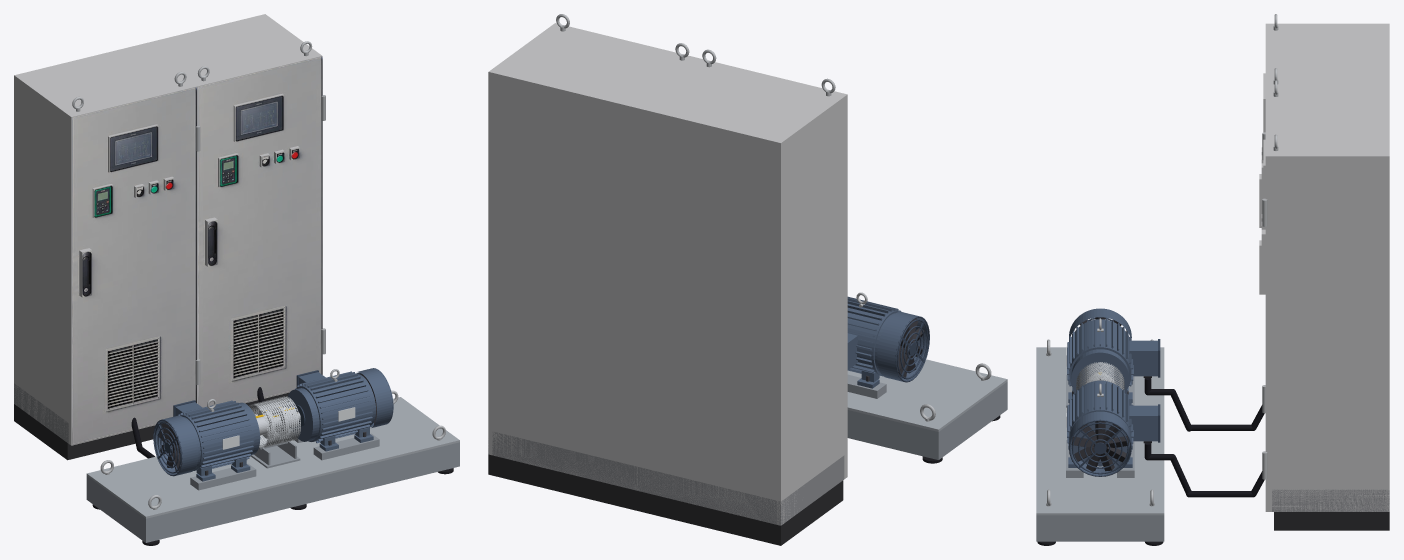
File: testbench_01.glb
3 views of the same model, side by side, from view 1: azimuth 30°, elevation 25°; view 2: azimuth 150°, elevation 25°; view 3: azimuth 270°, elevation 25° (orthographic). The views are drawn at different scales.
Visible parts, largest first — view 1: LeftDoor_Face, RightDoor_Face, L_side_L, Base_Deck, Base_Frame, L_roof, R_roof, L_plinth, Motor_B_Stator_Frame, Motor_A_Stator_Frame, Motor_B_Stator_Fins, Motor_A_Stator_Fins (+16 smaller); view 2: R_back, L_back, L_side_L, L_roof, R_roof, Base_Deck, L_floor, Base_Frame, L_plinth, R_floor, R_plinth, R_side_R (+7 smaller); view 3: R_side_R, Base_Deck, R_roof, L_roof, Base_Frame, R_floor, R_plinth, RightDoor_Panel, Motor_B_Stator_FanGrille, R_frame_R, Motor_A_Stator_Frame, Motor_B_Rotor_Fan (+15 smaller).
Boxes of the visible parts, <box> form: LeftDoor_Face: <box>72,87,196,444</box>; RightDoor_Face: <box>198,56,322,407</box>; L_side_L: <box>14,79,72,445</box>; Base_Deck: <box>86,397,459,518</box>; Base_Frame: <box>86,442,459,542</box>; L_roof: <box>14,44,196,118</box>; R_roof: <box>140,14,321,86</box>; L_plinth: <box>14,404,155,460</box>; Motor_B_Stator_Frame: <box>296,373,373,441</box>; Motor_A_Stator_Frame: <box>180,402,254,470</box>; Motor_B_Stator_Fins: <box>295,371,372,443</box>; Motor_A_Stator_Fins: <box>178,400,253,471</box>; R_back: <box>488,70,634,488</box>; L_back: <box>634,107,781,524</box>; L_side_L: <box>777,95,847,525</box>; L_roof: <box>634,61,845,146</box>; R_roof: <box>488,23,697,111</box>; Base_Deck: <box>847,359,1007,431</box>; L_floor: <box>634,455,844,525</box>; Base_Frame: <box>847,382,1007,459</box>; L_plinth: <box>634,480,843,545</box>; R_floor: <box>488,432,634,489</box>; R_plinth: <box>488,454,634,510</box>; R_side_R: <box>488,23,555,455</box>; R_side_R: <box>1265,155,1389,511</box>; Base_Deck: <box>1036,347,1164,515</box>; R_roof: <box>1265,90,1389,159</box>; L_roof: <box>1265,23,1389,89</box>; Base_Frame: <box>1036,515,1164,541</box>; R_floor: <box>1272,489,1389,511</box>; R_plinth: <box>1274,512,1389,530</box>; RightDoor_Panel: <box>1265,156,1270,511</box>; Motor_B_Stator_FanGrille: <box>1069,419,1131,476</box>; R_frame_R: <box>1265,154,1271,511</box>; Motor_A_Stator_Frame: <box>1069,319,1131,390</box>; Motor_B_Rotor_Fan: <box>1071,421,1128,471</box>.
Bounding box in the file's own units: 1.9 × 2.08 × 1.71.
20 materials, 4 textured.
